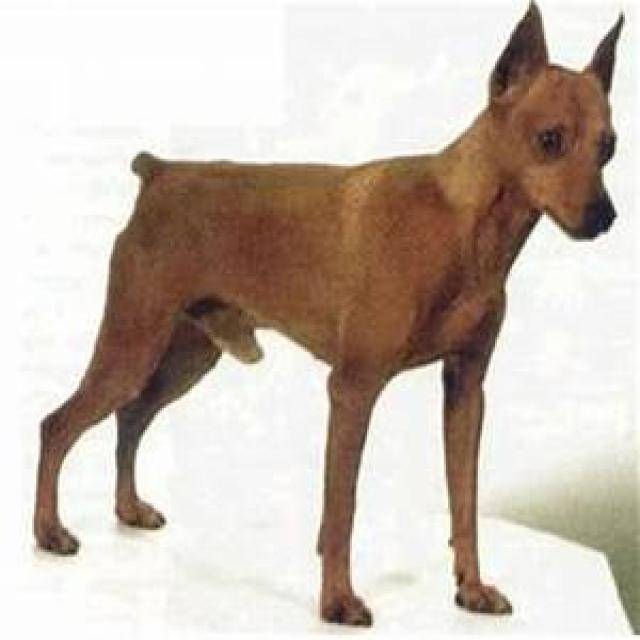dog: (34, 5, 621, 625)
